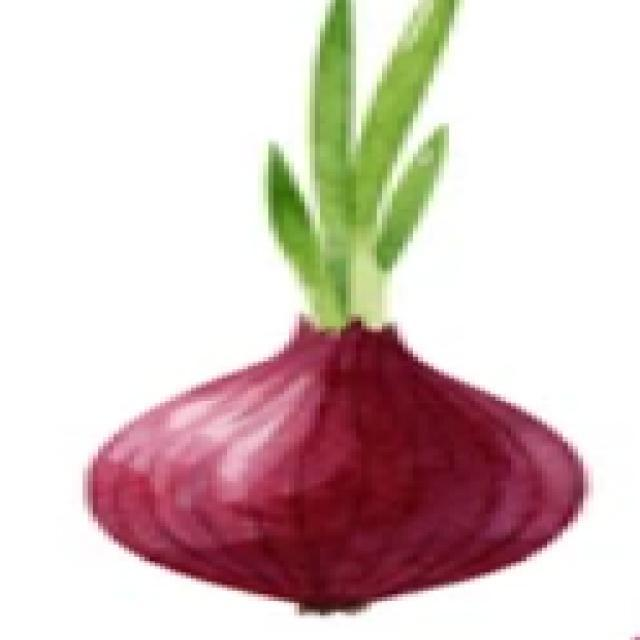sprouting: (196, 0, 499, 363)
